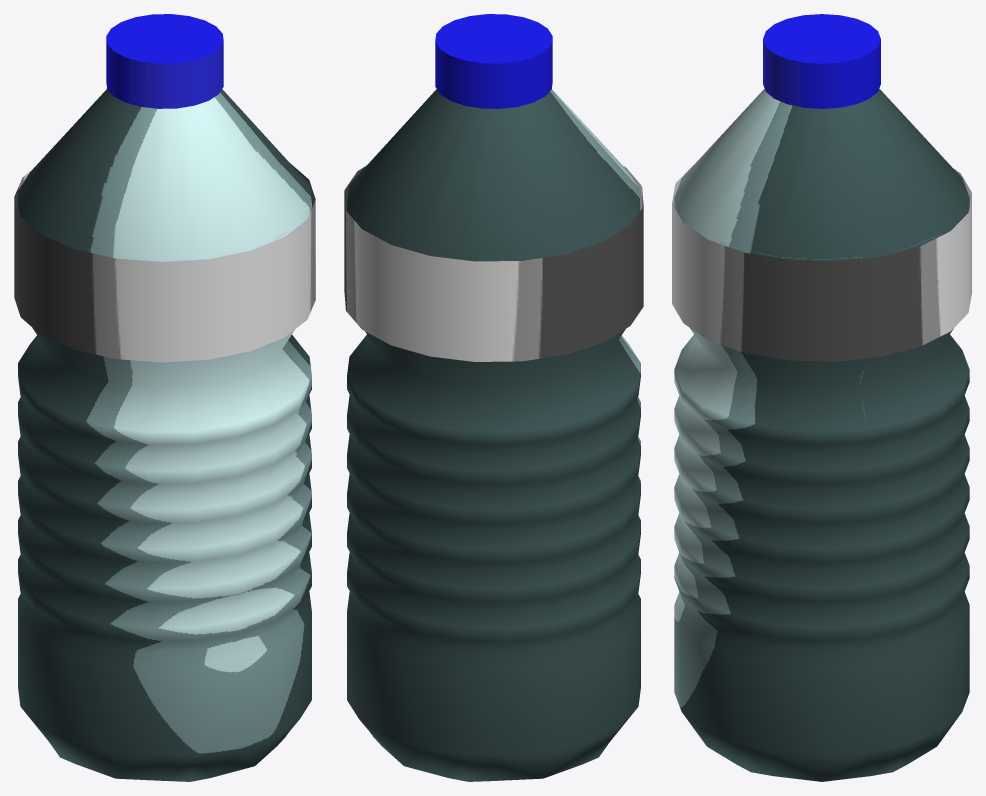
Rendered from maya2sketchfab.fbx.
3 views of the same model, side by side, from view 1: azimuth 30°, elevation 25°; view 2: azimuth 150°, elevation 25°; view 3: azimuth 270°, elevation 25° (orthographic).
Parts seen in each view (by area): view 1: Bottle, Label; view 2: Bottle, Label; view 3: Bottle, Label.
Part boxes in pixels (box(x1,y1,x2,y2)): Bottle: box(18, 14, 311, 781); Label: box(14, 163, 315, 362); Bottle: box(347, 14, 640, 781); Label: box(344, 165, 643, 361); Bottle: box(674, 14, 969, 781); Label: box(672, 165, 971, 361).
Size of the model in its own units: 2.03 by 5.2 by 2.03.
3 materials, 3 textured.
